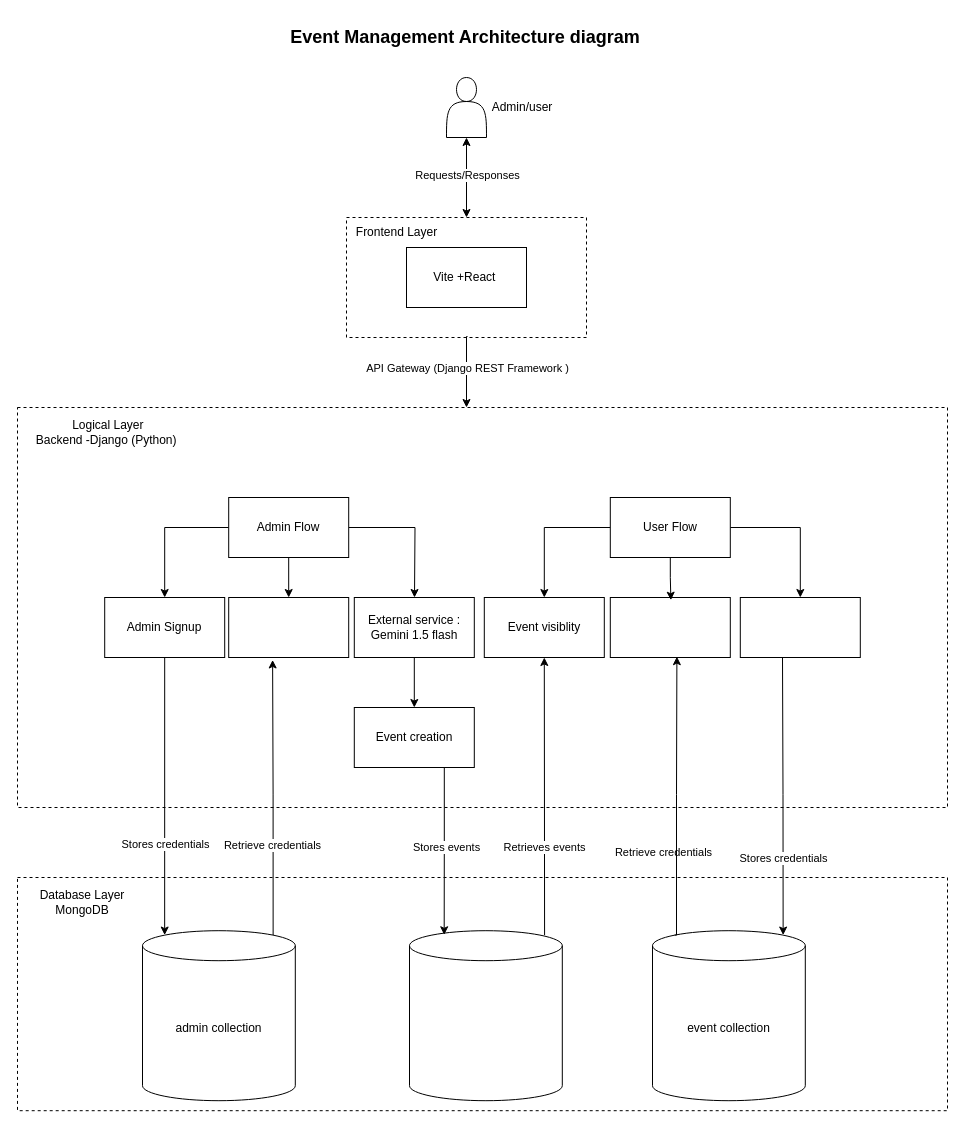
Image size: 965x1128. Some labels were removed from this diagram. Here are the shapes that lost their labels. From the top down, the centre of each, then its label:
At pixel 288 627: "Admin signin".
At pixel 669 627: "User signin".
At pixel 799 627: "User Signup".
At pixel 485 1015: "user collection".
